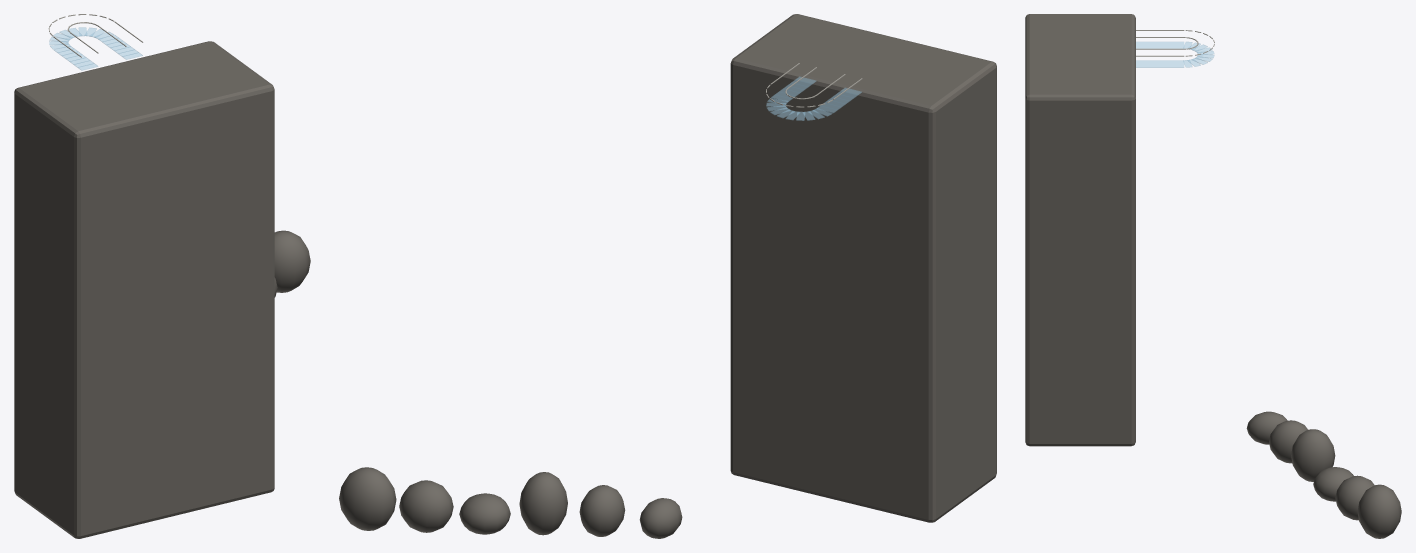
Rendered from OryukdoSkywalk_blockout.glb.
3 renders of one model, left to right at view 1: azimuth 30°, elevation 25°; view 2: azimuth 150°, elevation 25°; view 3: azimuth 270°, elevation 25°, orthographic. The views are drawn at different scales.
Visible parts, largest first — view 1: ENV20_OryukdoSkywalk_Cliff_L0, ENV20_OryukdoSkywalk_SchematicIsland5_L0; view 2: ENV20_OryukdoSkywalk_Cliff_L0, ENV20_OryukdoSkywalk_SchematicIsland5_L0, ENV20_OryukdoSkywalk_SchematicIsland2_L0, ENV20_OryukdoSkywalk_SchematicIsland4_L0, ENV20_OryukdoSkywalk_SchematicIsland1_L0, ENV20_OryukdoSkywalk_SchematicIsland3_L0, ENV20_OryukdoSkywalk_SchematicIsland0_L0; view 3: ENV20_OryukdoSkywalk_Cliff_L0, ENV20_OryukdoSkywalk_SchematicIsland5_L0, ENV20_OryukdoSkywalk_SchematicIsland2_L0, ENV20_OryukdoSkywalk_SchematicIsland4_L0, ENV20_OryukdoSkywalk_SchematicIsland1_L0, ENV20_OryukdoSkywalk_SchematicIsland3_L0, ENV20_OryukdoSkywalk_SchematicIsland0_L0.
Part boxes in pixels (x1,y1,x2,y2): ENV20_OryukdoSkywalk_Cliff_L0: [14, 41, 274, 538]; ENV20_OryukdoSkywalk_SchematicIsland5_L0: [274, 230, 310, 292]; ENV20_OryukdoSkywalk_Cliff_L0: [730, 14, 996, 522]; ENV20_OryukdoSkywalk_SchematicIsland5_L0: [339, 467, 396, 530]; ENV20_OryukdoSkywalk_SchematicIsland2_L0: [519, 472, 567, 535]; ENV20_OryukdoSkywalk_SchematicIsland4_L0: [399, 480, 453, 532]; ENV20_OryukdoSkywalk_SchematicIsland1_L0: [579, 485, 625, 536]; ENV20_OryukdoSkywalk_SchematicIsland3_L0: [459, 493, 510, 534]; ENV20_OryukdoSkywalk_SchematicIsland0_L0: [639, 498, 682, 538]; ENV20_OryukdoSkywalk_Cliff_L0: [1025, 14, 1135, 446]; ENV20_OryukdoSkywalk_SchematicIsland5_L0: [1357, 484, 1401, 538]; ENV20_OryukdoSkywalk_SchematicIsland2_L0: [1291, 429, 1335, 481]; ENV20_OryukdoSkywalk_SchematicIsland4_L0: [1335, 475, 1374, 520]; ENV20_OryukdoSkywalk_SchematicIsland1_L0: [1269, 420, 1307, 463]; ENV20_OryukdoSkywalk_SchematicIsland3_L0: [1313, 467, 1353, 501]; ENV20_OryukdoSkywalk_SchematicIsland0_L0: [1246, 411, 1287, 444].
Bounding box in the file's own units: 39.25 × 36.13 × 34.
